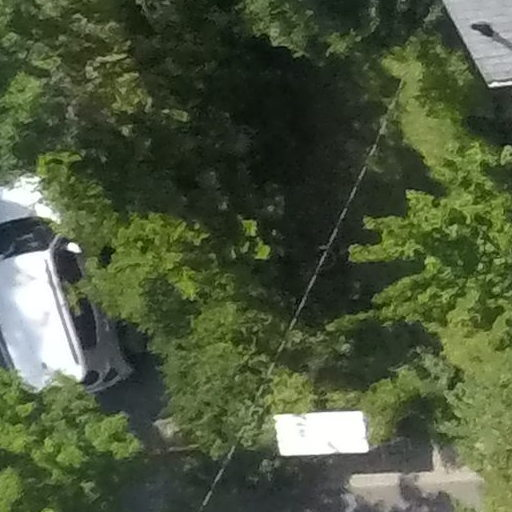car: (1, 143, 131, 393)
